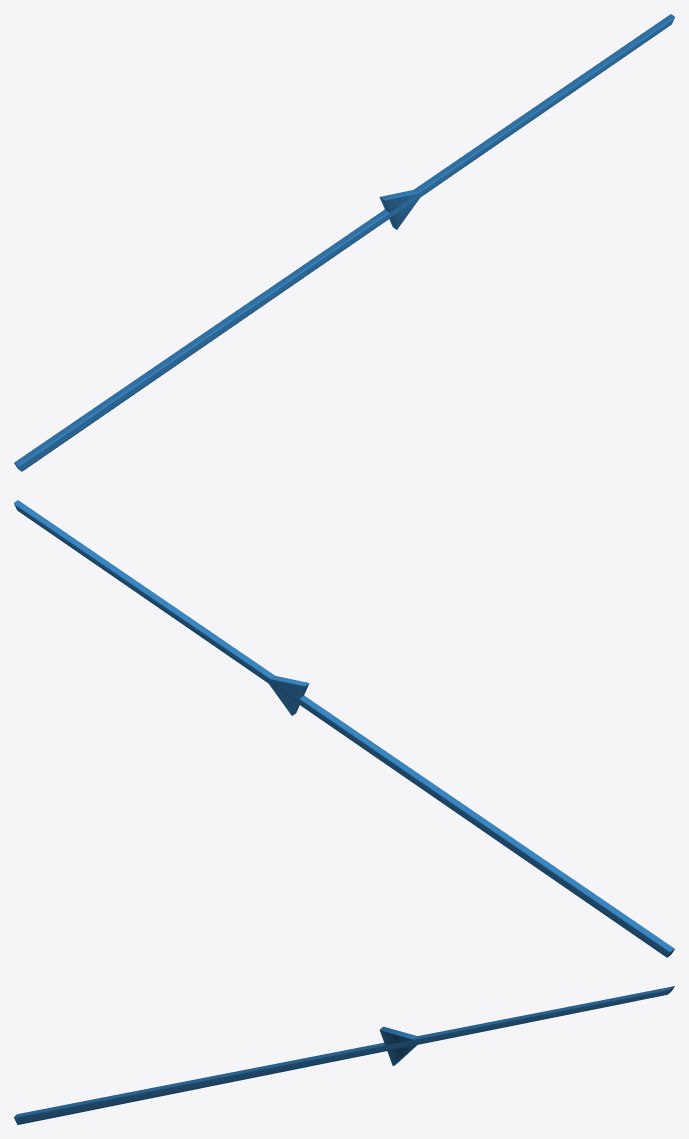
The model's file is Line_Arrow.fbx.
The picture shows the model from 3 angles, top to bottom: view 1: azimuth 30°, elevation 25°; view 2: azimuth 150°, elevation 25°; view 3: azimuth 330°, elevation 25°; orthographic projection.
Parts seen in each view (by area): view 1: Line_Arrow; view 2: Line_Arrow; view 3: Line_Arrow.
Boxes of the visible parts, x1=… form: Line_Arrow: x1=14, y1=14, x2=674, y2=471; Line_Arrow: x1=14, y1=500, x2=674, y2=957; Line_Arrow: x1=14, y1=986, x2=674, y2=1124.
Size of the model in its own units: 7.18 by 3.09 by 0.0907.
